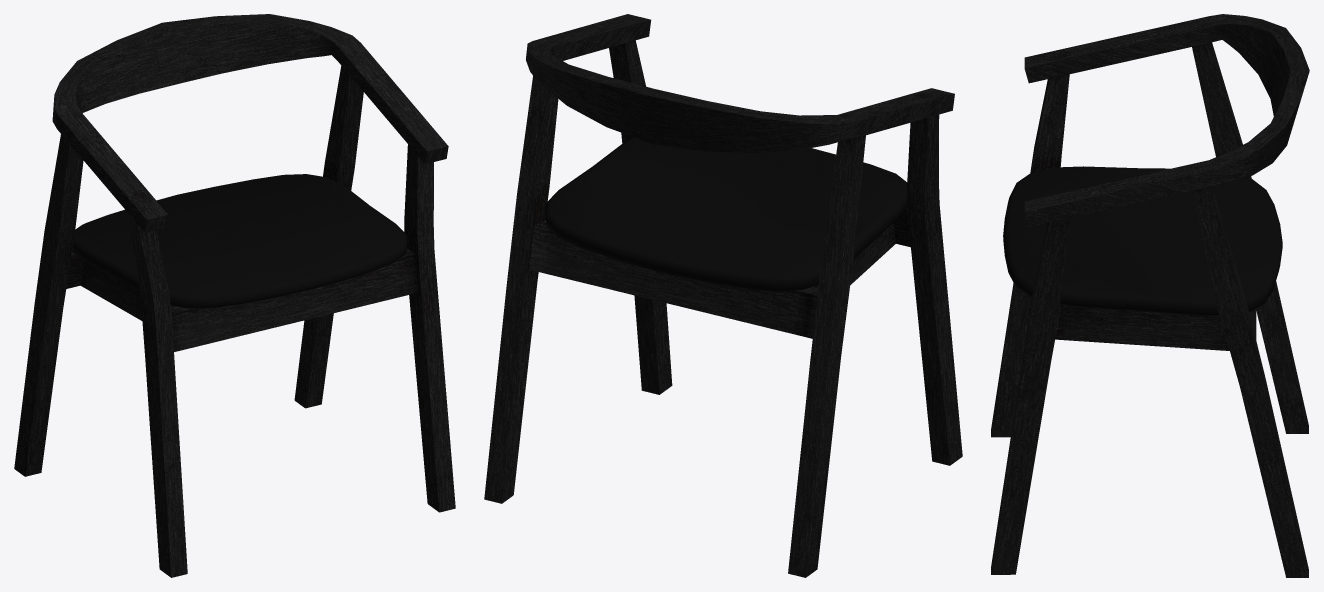
File: cilla_negra.glb
3 renders of one model, left to right at view 1: azimuth 30°, elevation 25°; view 2: azimuth 150°, elevation 25°; view 3: azimuth 270°, elevation 25°, orthographic. The views are drawn at different scales.
Parts seen in each view (by area): view 1: Chair_Chair_0, Couch; view 2: Chair_Chair_0, Couch; view 3: Chair_Chair_0, Couch.
Boxes of the visible parts, box(x1,y1,x2,y2) form: Chair_Chair_0: box(14, 14, 455, 577); Couch: box(72, 174, 407, 308); Chair_Chair_0: box(484, 14, 962, 577); Couch: box(545, 137, 907, 291); Chair_Chair_0: box(991, 14, 1309, 577); Couch: box(1003, 166, 1282, 315).
Size of the model in its own units: 58 by 75.22 by 50.38.
2 materials, 2 textured.
